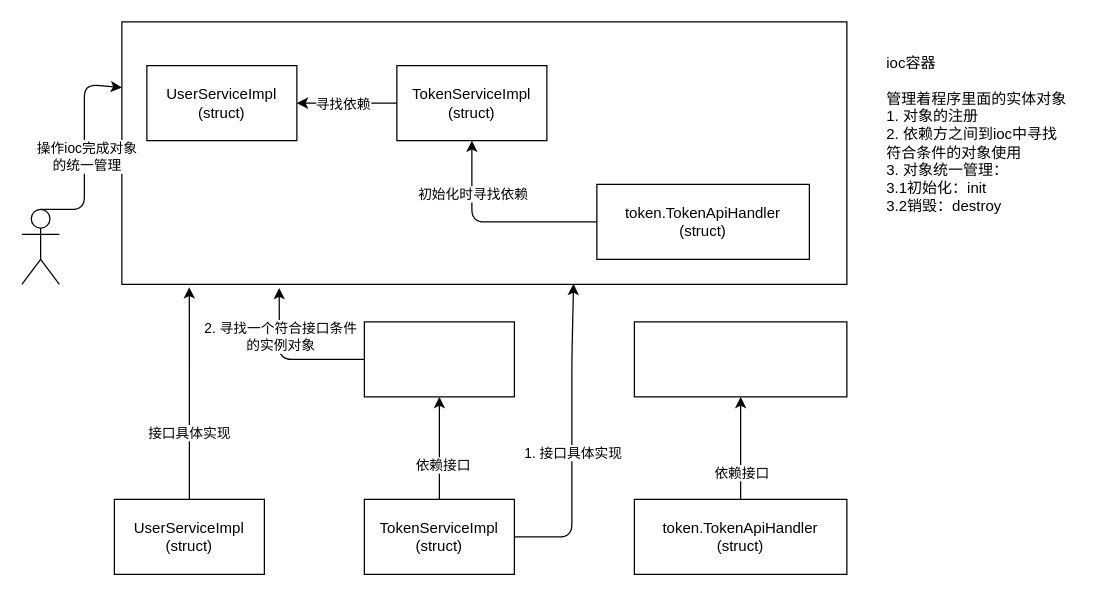
The diagram is 1119 pixels wide and 596 high, and some of its shapes have lost their labels. The shapes that lost their labels are listed below. From the top down, each one's box as (x1, y1, x2, y2) in pixels, then its label:
(21, 208, 59, 284): Actor
(363, 321, 514, 397): UserService
(633, 321, 847, 397): TokenService
